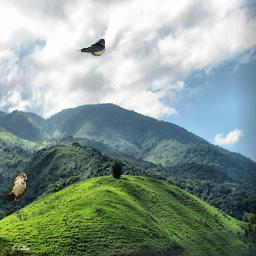Sparrow: (7, 172, 27, 201)
Swallow: (76, 38, 105, 56)
